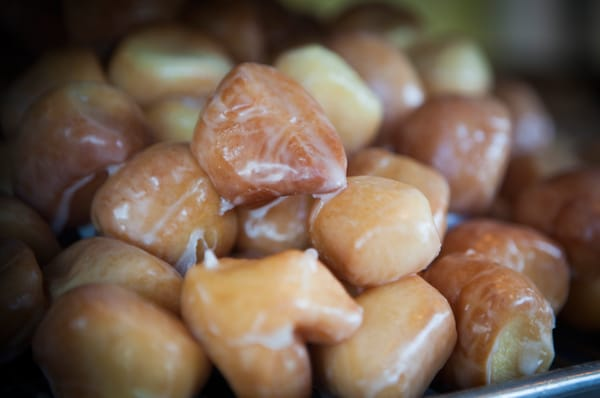steak: (30, 282, 213, 394), (392, 95, 515, 217)
